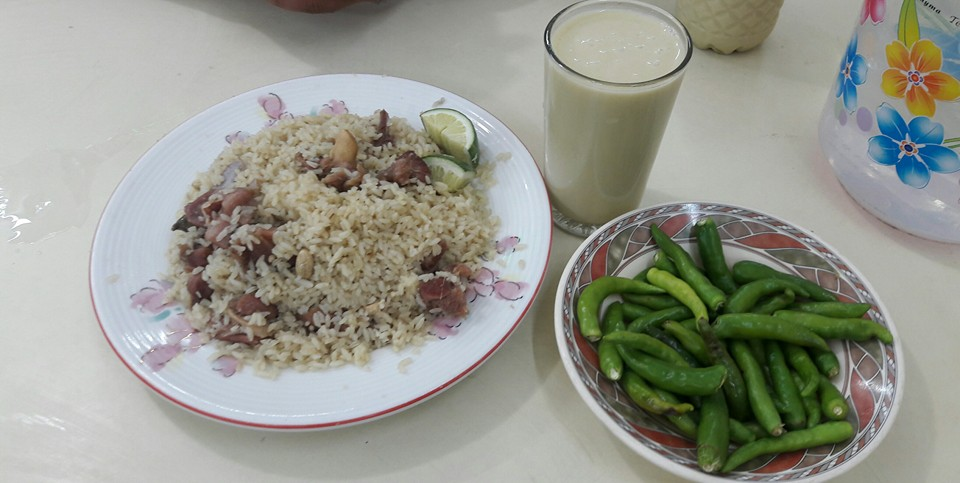tehari: (155, 106, 507, 373)
